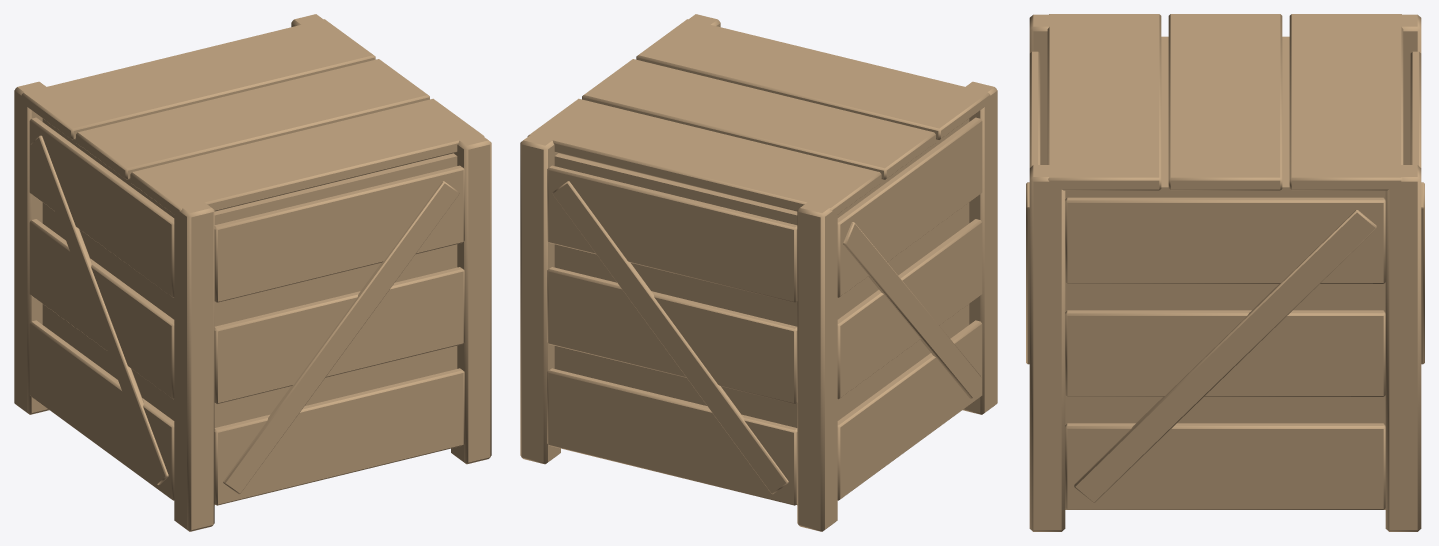
The model's file is Crate.fbx.
3 views of the same model, side by side, from view 1: azimuth 30°, elevation 25°; view 2: azimuth 150°, elevation 25°; view 3: azimuth 270°, elevation 25° (orthographic). The views are drawn at different scales.
Parts seen in each view (by area): view 1: Crate; view 2: Crate; view 3: Crate.
Part boxes in pixels (x1,y1,x2,y2): Crate: (14, 14, 491, 531); Crate: (520, 14, 997, 531); Crate: (1026, 14, 1424, 531).
Bounding box in the file's own units: 1.12 × 1.1 × 1.12.
